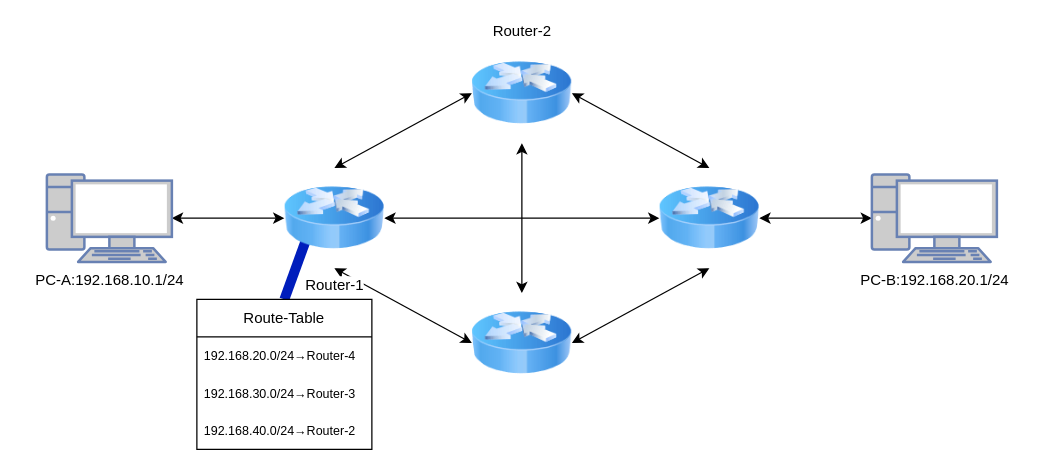
Image size: 1043x471. Some labels were removed from this diagram. The centre of each missing label's shape, as x and y in pixels:
Router-3: [521,342]
Router-4: [709,218]
